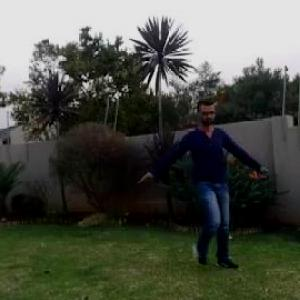land: (136, 98, 274, 266)
